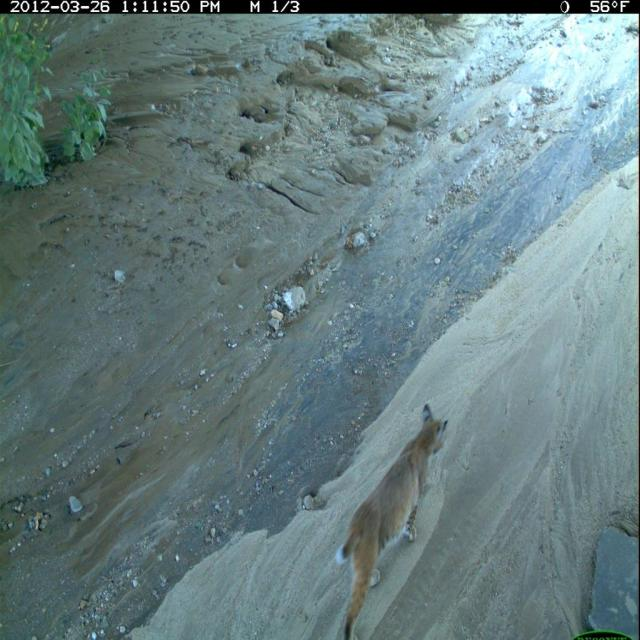bobcat: (331, 400, 453, 640)
